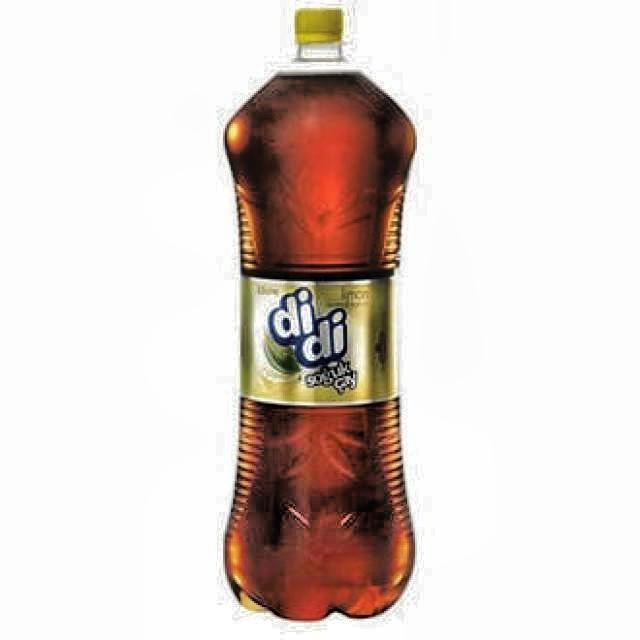plastic: (222, 7, 418, 625)
